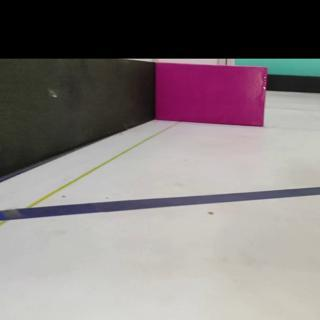xparking: (165, 67, 265, 124)
